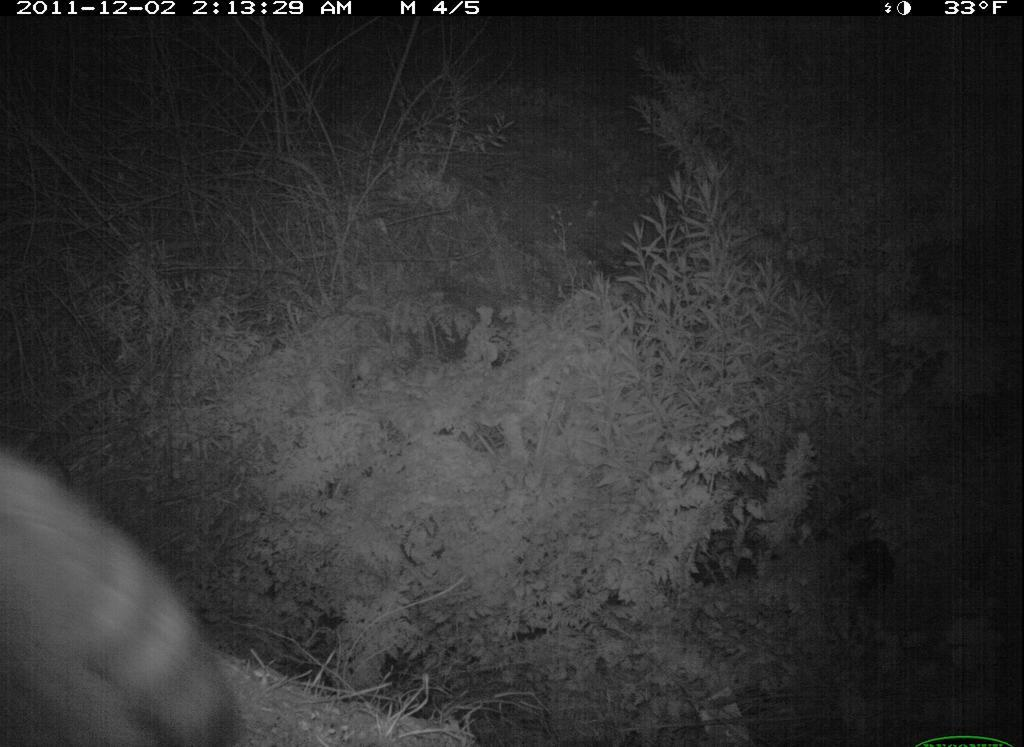raccoon: (4, 445, 257, 745)
